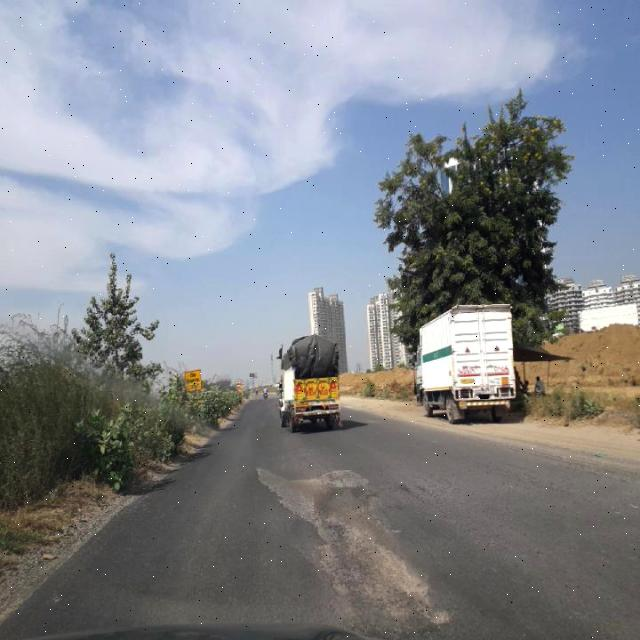D40: (248, 458, 453, 625)
